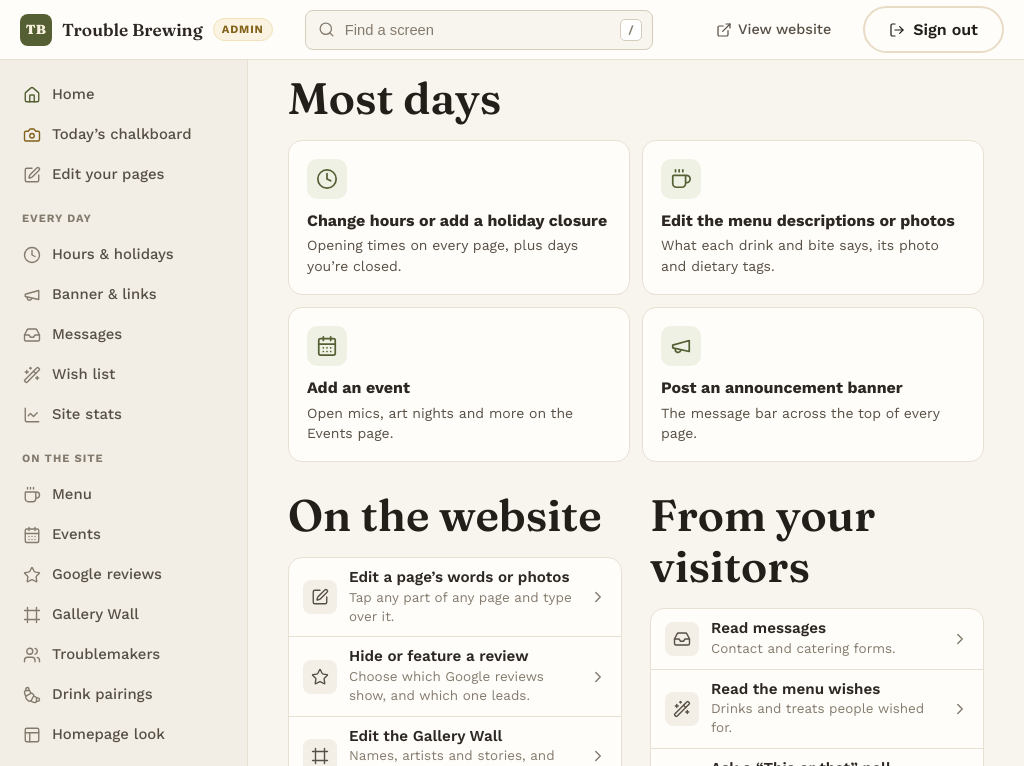
it: admin home › the "{}" card goes to /admin/events and says what it changes
(page scrolled)
Step 1. Click the link "Add an event" → point(327, 346), box [288,307,630,462]
(page scrolled)
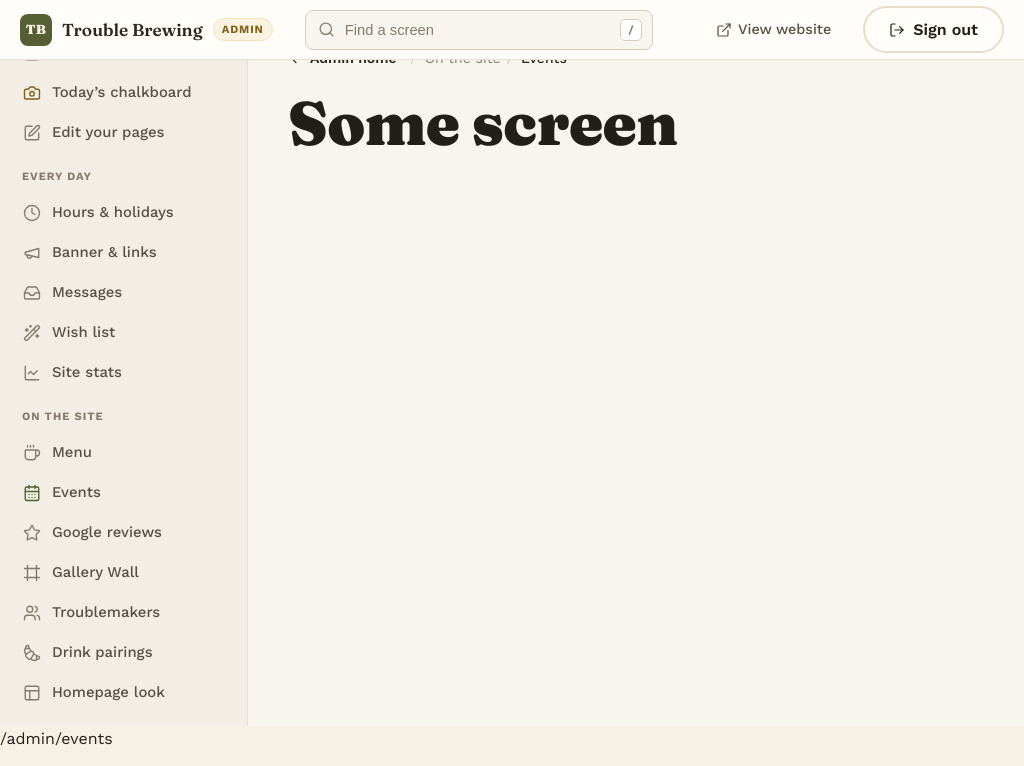
Expected: the text with test id "where" reads "/admin/events", [0,729,113,748]
